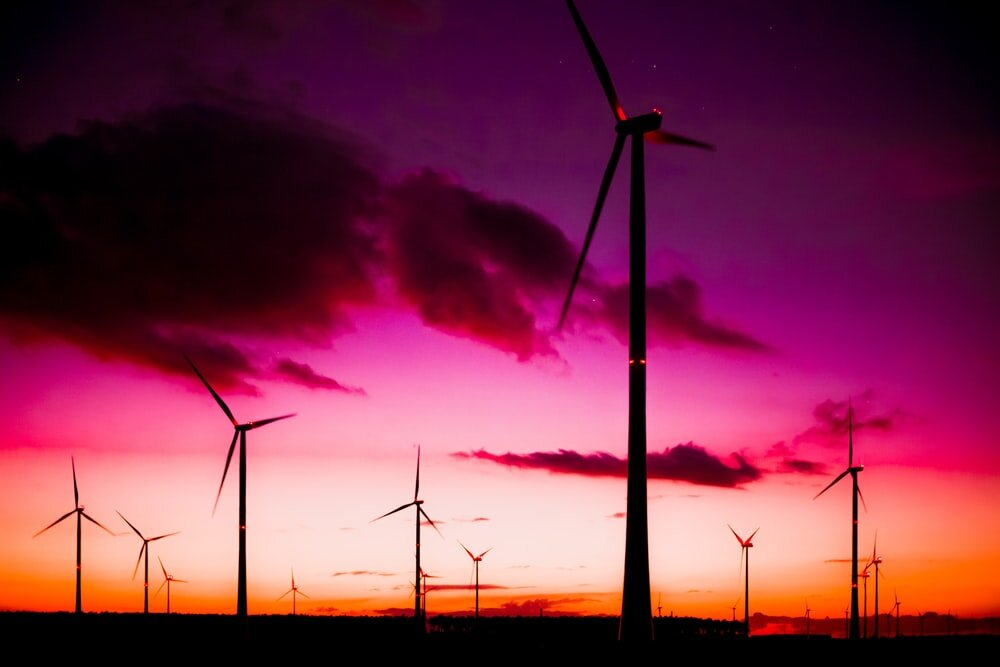working: (555, 34, 725, 395)
